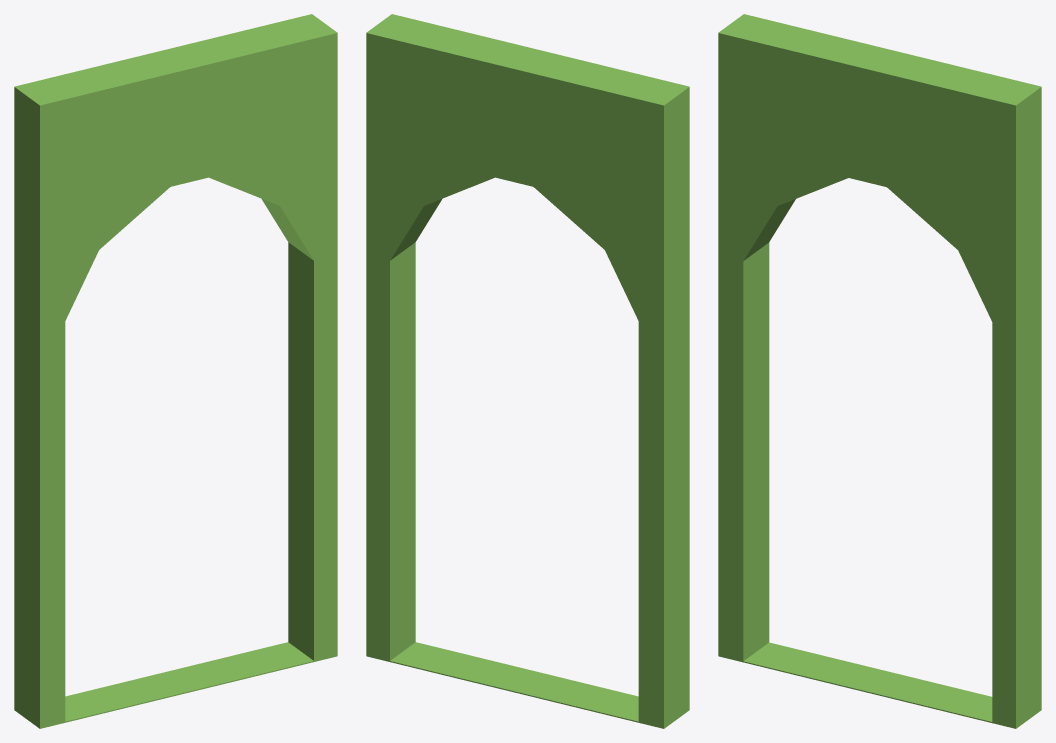
Rendered from LimeDoorframe.glb.
3 renders of one model, left to right at view 1: azimuth 30°, elevation 25°; view 2: azimuth 150°, elevation 25°; view 3: azimuth 330°, elevation 25°, orthographic.
Parts seen in each view (by area): view 1: wall_lime_door; view 2: wall_lime_door; view 3: wall_lime_door.
Boxes of the visible parts, <box> form: wall_lime_door: <box>14,14,337,728</box>; wall_lime_door: <box>366,14,689,728</box>; wall_lime_door: <box>718,14,1041,728</box>.
Size of what is drawn, in the model's own units: 2 by 4 by 0.3.
1 material, 1 textured.
